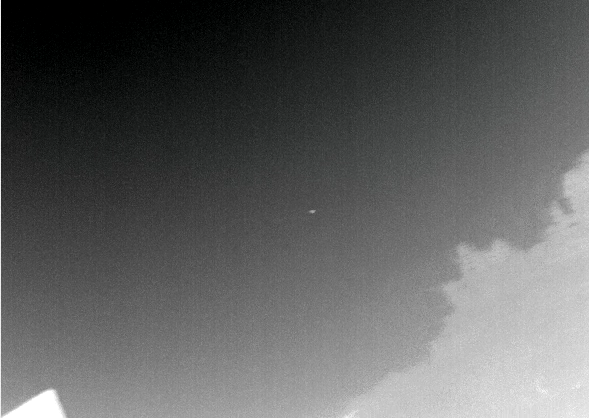dim target: (308, 208, 317, 215)
